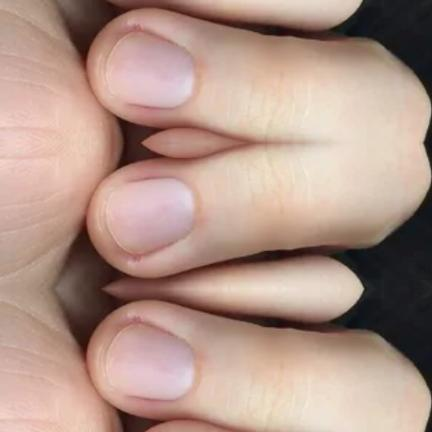Nail: (103, 322, 198, 402), (103, 176, 198, 255), (103, 29, 198, 108)
